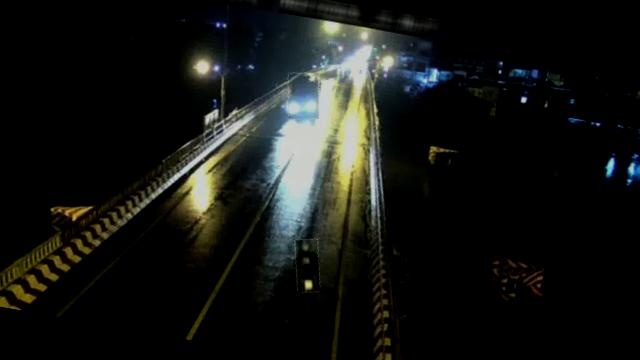Bike: (288, 236, 326, 294)
Truck: (283, 70, 326, 122)
